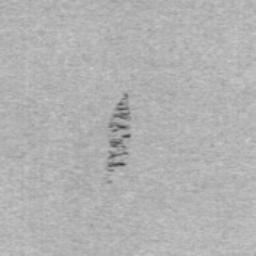Secondary rust skin: (106, 92, 133, 169)
